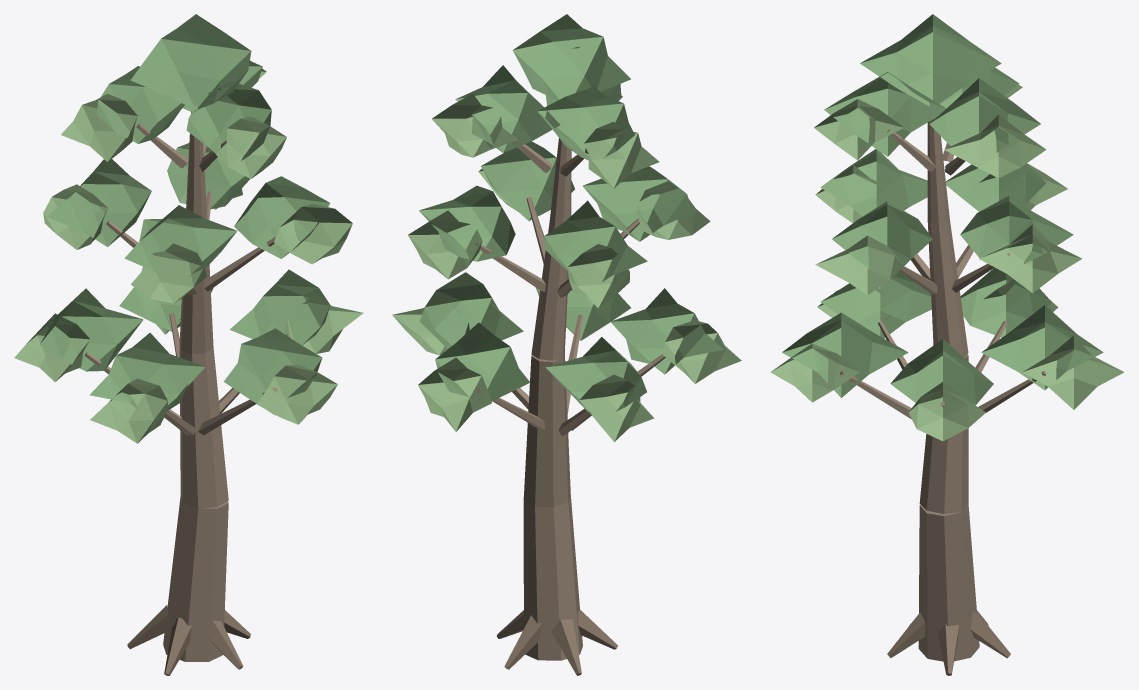
Rendered from tree_ash.glb.
The picture shows the model from 3 angles, left to right: view 1: azimuth 30°, elevation 25°; view 2: azimuth 150°, elevation 25°; view 3: azimuth 270°, elevation 25°; orthographic projection.
Parts seen in each view (by area): view 1: lod0; view 2: lod0; view 3: lod0.
Part boxes in pixels (x1,y1,x2,y2): lod0: (14,14,363,675); lod0: (392,14,741,675); lod0: (770,14,1124,675).
Size of what is drawn, in the model's own units: 3.51 by 6.86 by 3.48.
